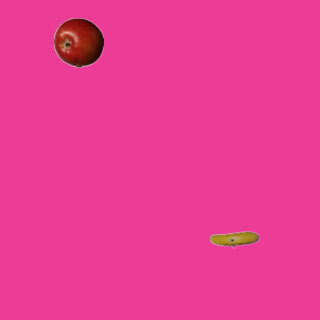Apple Braeburn: (53, 17, 103, 67)
Banana: (209, 214, 259, 264)
